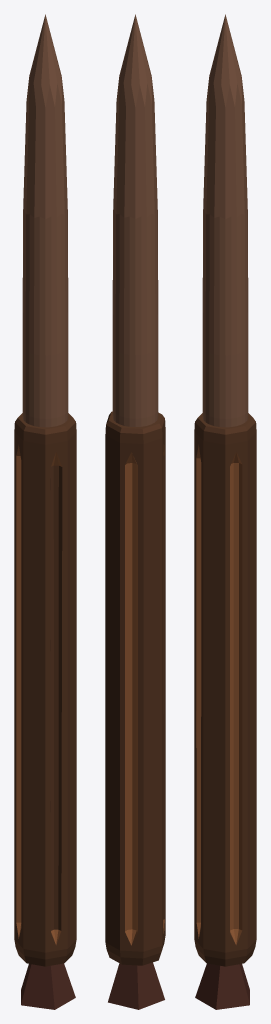
The model's file is Wand 508.glb.
3 views of the same model, side by side, from view 1: azimuth 90°, elevation 25°; view 2: azimuth 150°, elevation 25°; view 3: azimuth 270°, elevation 25° (orthographic).
Visible parts, largest first — view 1: GeneratedWand; view 2: GeneratedWand; view 3: GeneratedWand.
Part boxes in pixels (left/top/right/bottom): GeneratedWand: left=14, top=14, right=76, bottom=1009; GeneratedWand: left=105, top=14, right=165, bottom=1009; GeneratedWand: left=194, top=14, right=256, bottom=1009.
Bounding box in the file's own units: 0.0289 × 0.5042 × 0.0289.
